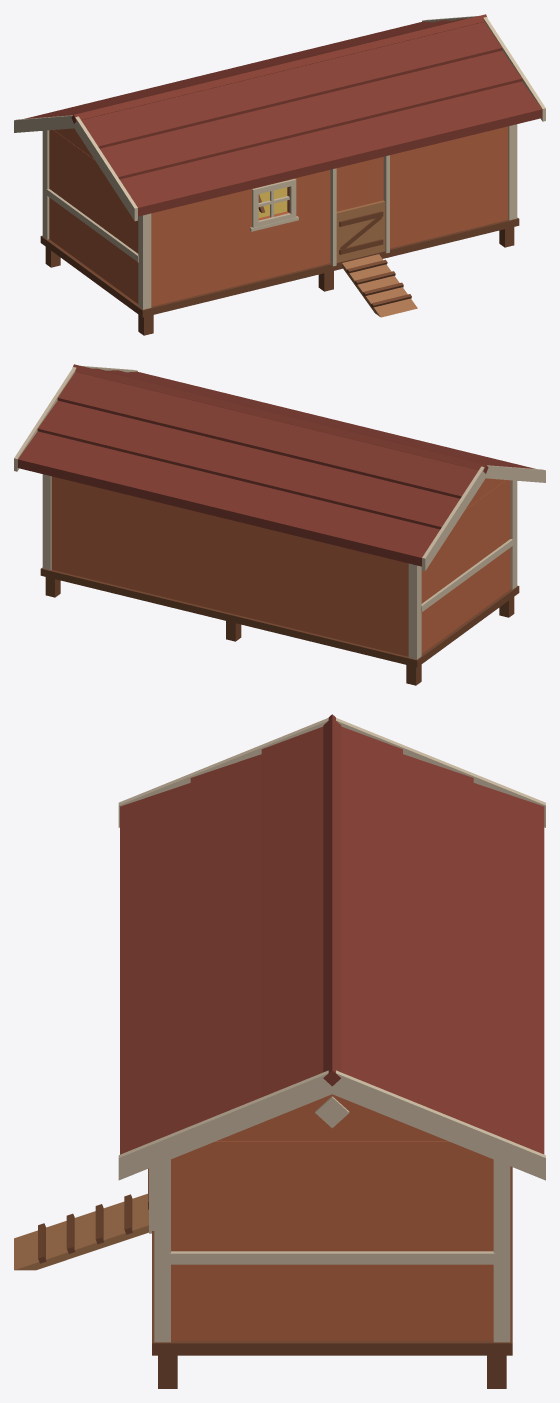
The model's file is coop.glb.
The picture shows the model from 3 angles, top to bottom: view 1: azimuth 30°, elevation 25°; view 2: azimuth 150°, elevation 25°; view 3: azimuth 270°, elevation 25°; orthographic projection. The views are drawn at different scales.
Parts seen in each view (by area): view 1: roof_shell, front_board, side_board_R, floor, ridge_cap, rake_R, pop_door_panel, ramp, corner_FR, window_frame, corner_FL, side_belt_R (+6 smaller); view 2: roof_shell, back_board, side_board_R, floor, ridge_cap, rake_R, corner_BR, corner_BL, side_belt_R, corner_FR, rake_L; view 3: roof_shell, side_board_L, rake_L, ridge_cap, floor, gable_L, side_belt_L, ramp, corner_BL, rake_R, corner_FL.
Part boxes in pixels (x1,y1,x2,y2): roof_shell: (24, 18, 542, 216); front_board: (151, 126, 508, 306); side_board_R: (49, 130, 138, 303); floor: (40, 217, 519, 317); ridge_cap: (71, 14, 487, 123); rake_R: (14, 115, 137, 221); pop_door_panel: (336, 200, 385, 262); ramp: (342, 254, 417, 317); corner_FR: (138, 213, 151, 309); window_frame: (252, 178, 296, 227); corner_FL: (508, 124, 517, 220); side_belt_R: (46, 189, 138, 262); roof_shell: (17, 368, 535, 566); back_board: (51, 476, 408, 656); side_board_R: (421, 480, 510, 653); floor: (40, 567, 519, 667); ridge_cap: (72, 364, 488, 473); rake_R: (422, 465, 545, 571); corner_BR: (408, 563, 421, 659); corner_BL: (42, 474, 51, 570); side_belt_R: (421, 539, 513, 612); corner_FR: (510, 480, 517, 589); rake_L: (14, 366, 137, 471); roof_shell: (120, 726, 544, 1154); side_board_L: (171, 1141, 493, 1340); rake_L: (118, 1070, 545, 1180); ridge_cap: (323, 714, 341, 1086); floor: (152, 1166, 512, 1355); gable_L: (215, 1094, 448, 1141); side_belt_L: (169, 1251, 495, 1264); ramp: (14, 1193, 148, 1270); corner_BL: (493, 1160, 510, 1342); rake_R: (118, 718, 545, 827); corner_FL: (154, 1159, 170, 1342).
Size of the model in its own units: 5.56 by 2.45 by 3.51.
